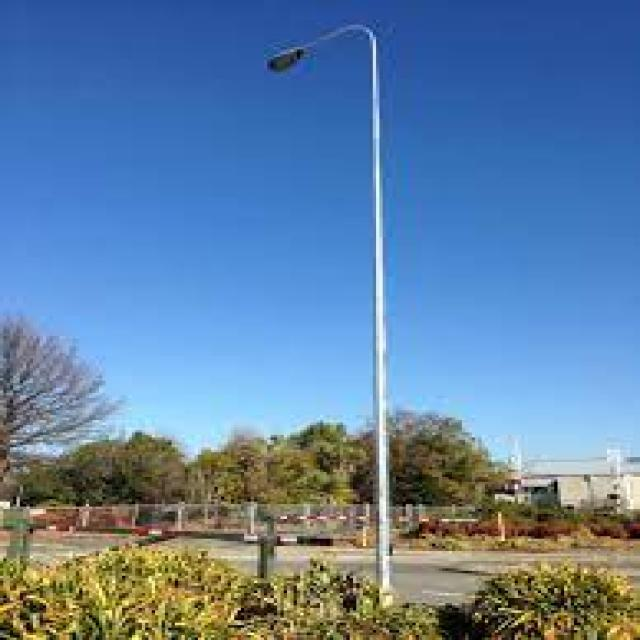Street Light: (264, 22, 396, 606)
